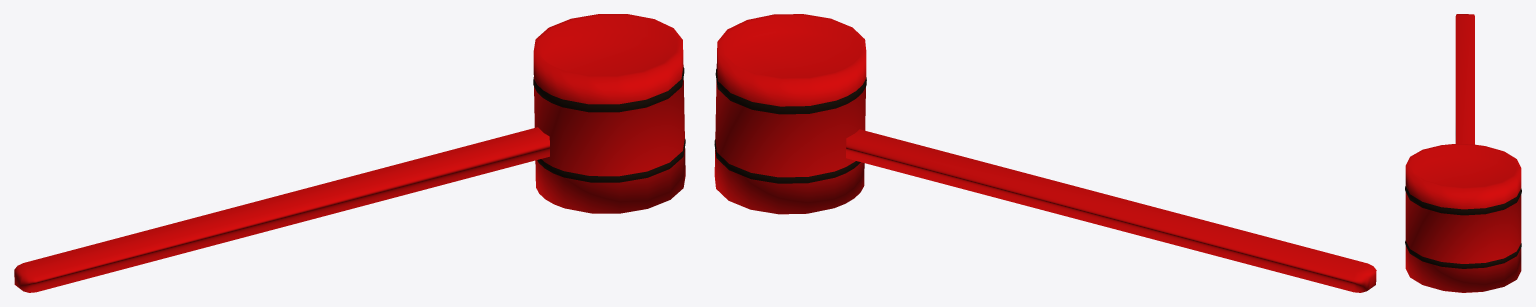
The model's file is hisyaku.fbx.
3 views of the same model, side by side, from view 1: azimuth 30°, elevation 25°; view 2: azimuth 150°, elevation 25°; view 3: azimuth 270°, elevation 25° (orthographic). The views are drawn at different scales.
Visible parts, largest first — view 1: Cube.004; view 2: Cube.004; view 3: Cube.004.
Boxes of the visible parts, box(x1,y1,x2,y2) form: Cube.004: box(14, 14, 685, 292); Cube.004: box(714, 14, 1376, 292); Cube.004: box(1405, 14, 1521, 292).
Bounding box in the file's own units: 29.02 × 6.08 × 5.93.
